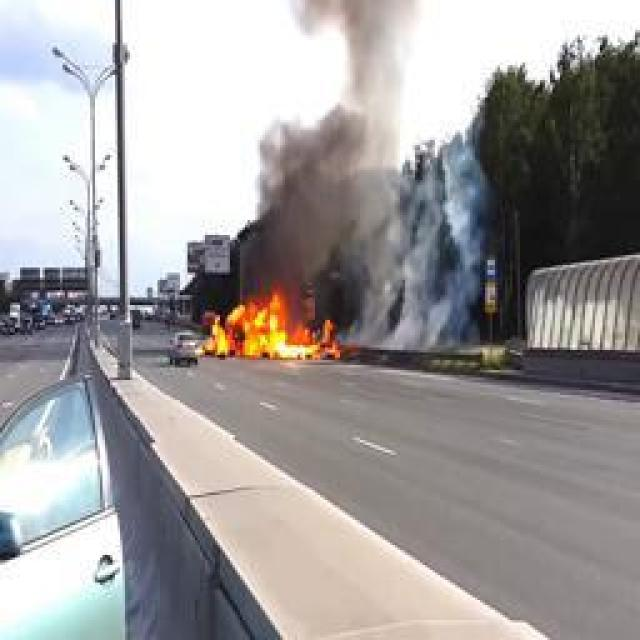Fire: (205, 286, 340, 362)
